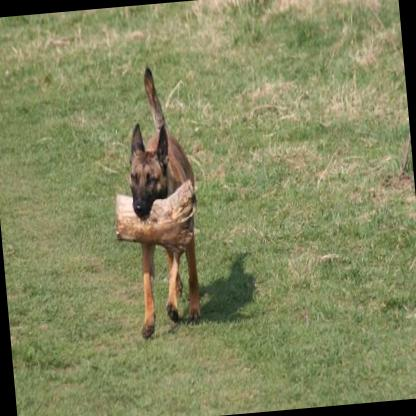malinois: (119, 63, 207, 338)
